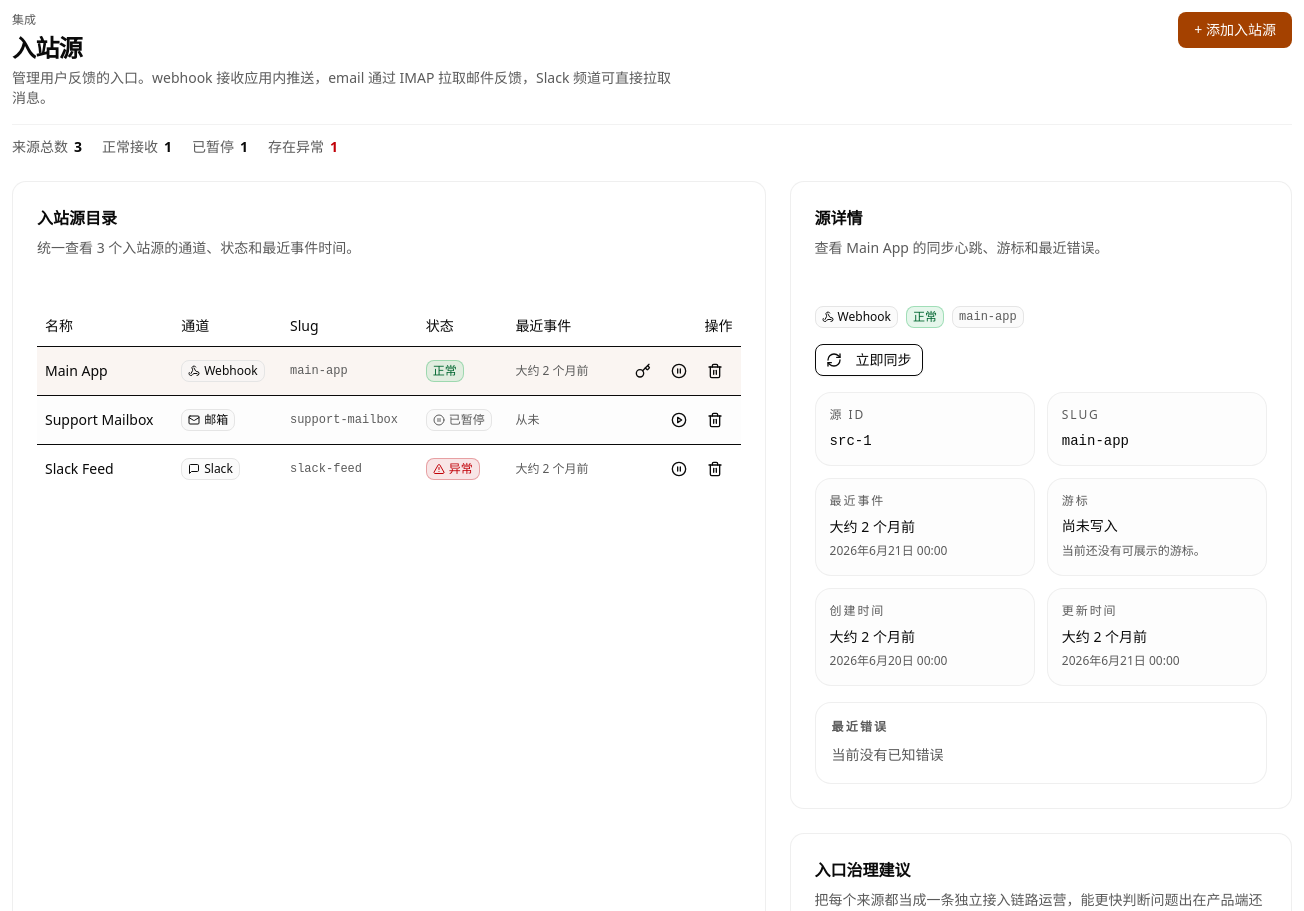
Test: InboundSourcesPage › renders hero metrics, governance card, and a selectable source detail panel
Expected: the button "Main App" is shown, [45,360,108,380]
Expected: the text "来源总数" is shown, [12,137,68,157]
What coordinates should you click on to do the following:
click the button "Slack Feed"
I would click on:
 (79, 468)
Its box is [45,458,114,478].
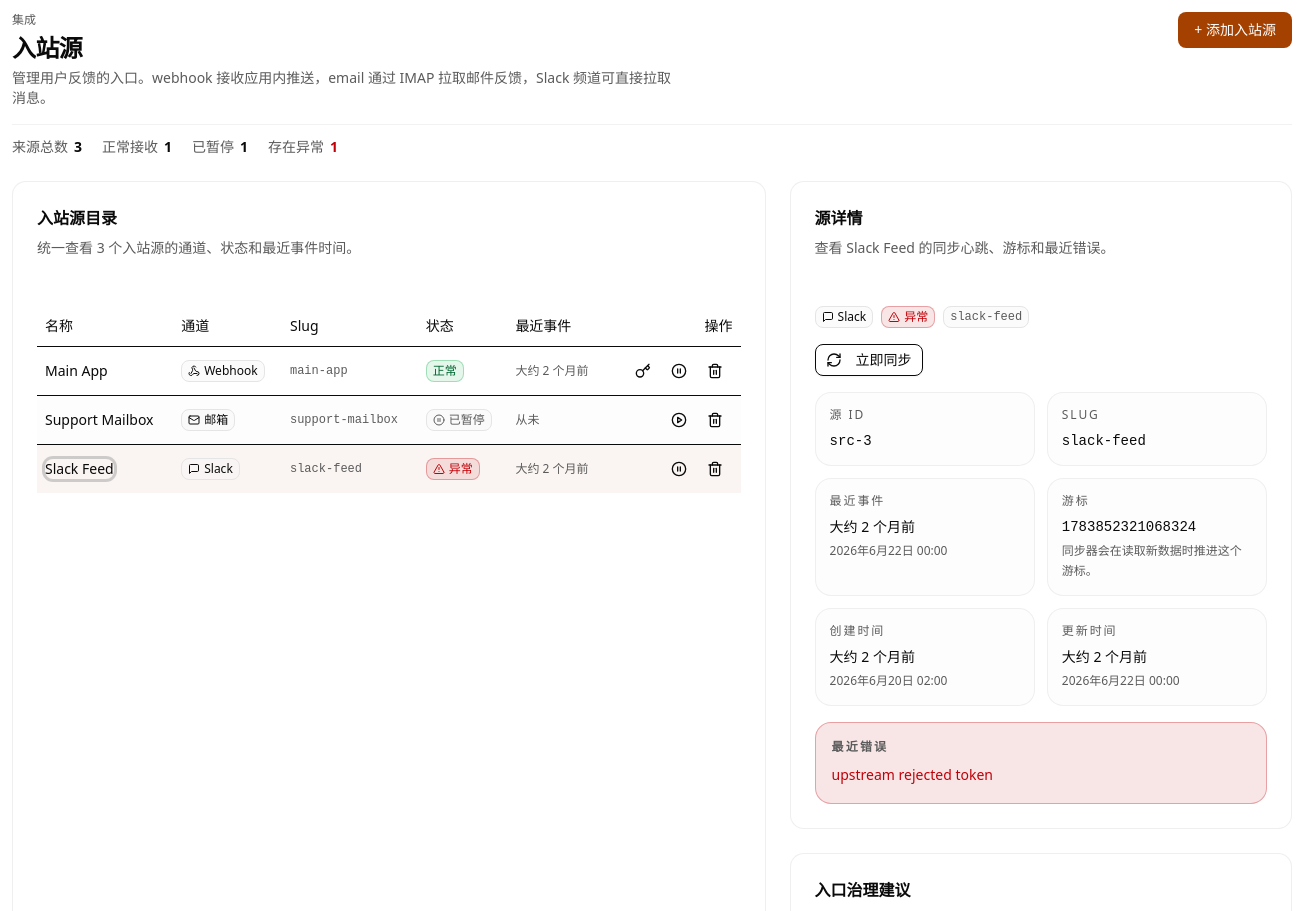
Expected: the text "src-3" is shown, [830,433,872,449]
Expected: the text "upstream rejected token" is shown, [832,765,993,784]
Expected: the text "1783852321068324" is shown, [1062,519,1196,535]
